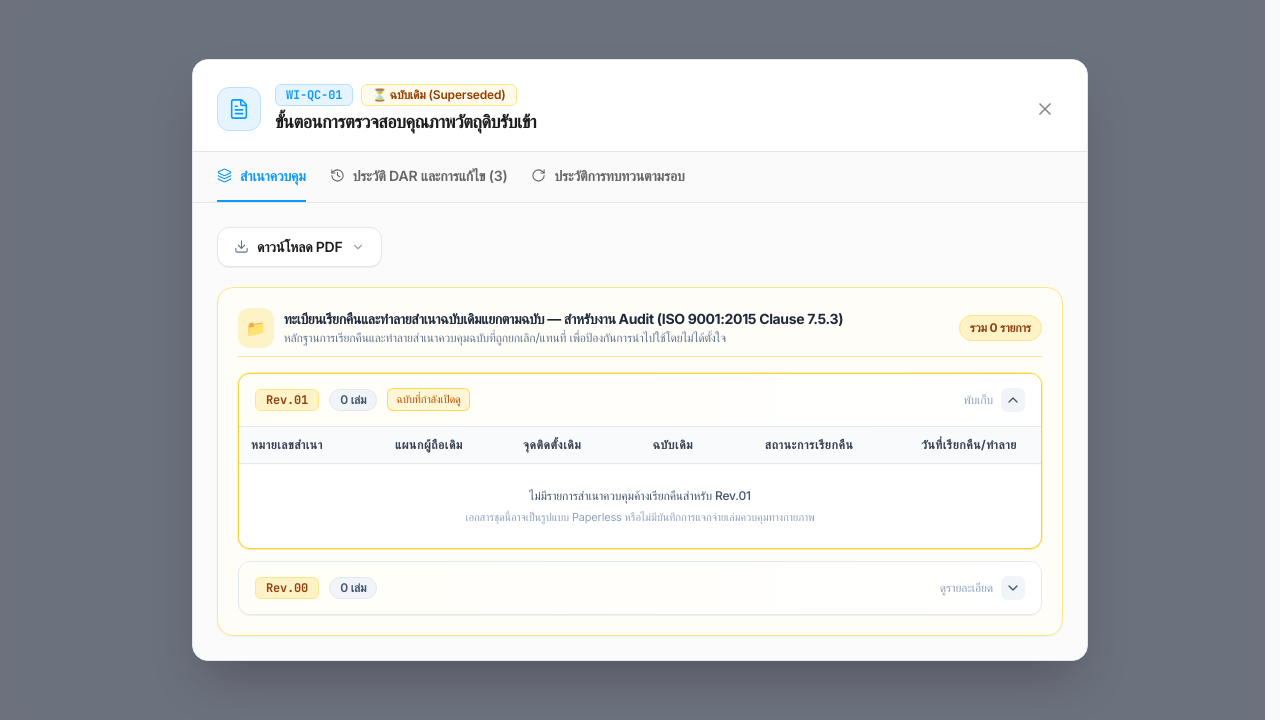
Test: Superseded Revision History Overwrite Fix & Persistence Test Suite › 11. DocumentDetailModal unified vertical accordion timeline renders all historical superseded DARs with clean header and expand/collapse controls
Expected: the text "⏳ ฉบับเดิม (Superseded)" is shown, [361, 84, 517, 106]
Click the button "ประวัติ DAR และการแก้ไข (3)".
click(419, 176)  # box [330, 152, 508, 202]
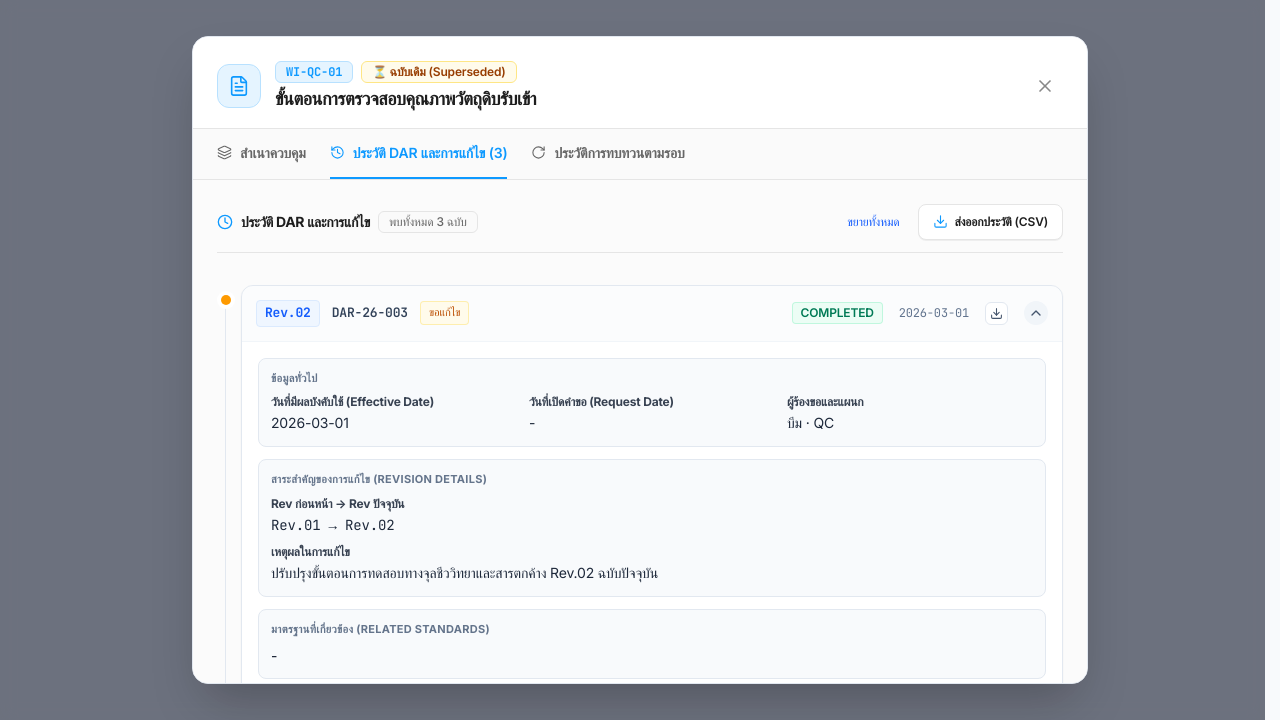
Now the text "พบทั้งหมด 3 ฉบับ" is shown, box [378, 211, 478, 233]
Now the text "DAR-26-003" is shown, box [332, 303, 408, 324]
Now the button "ขยายทั้งหมด" is shown
Note: Click "ขยายทั้งหมด" to expand all
Click the button "ขยายทั้งหมด".
click(873, 222)  # box [836, 207, 910, 237]
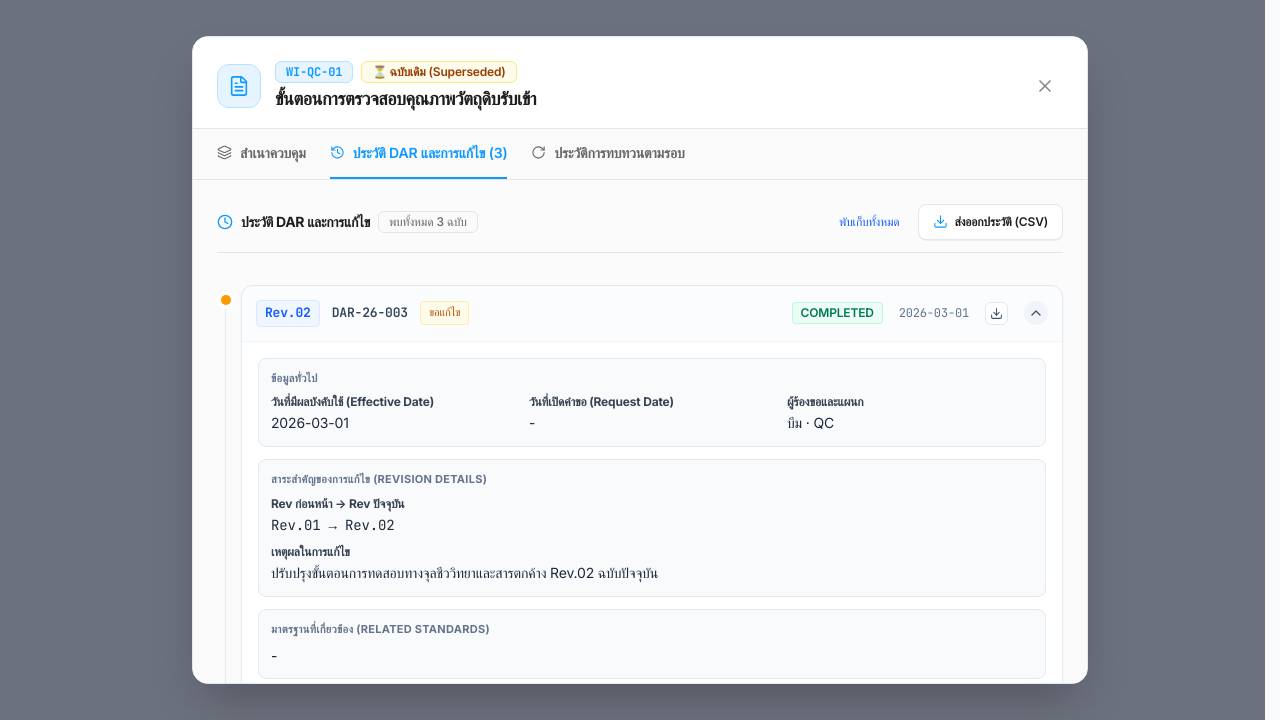
Now the button "พับเก็บทั้งหมด" is shown
Note: Click "พับเก็บทั้งหมด" to collapse all
Click the button "พับเก็บทั้งหมด".
click(869, 222)  # box [828, 207, 910, 237]
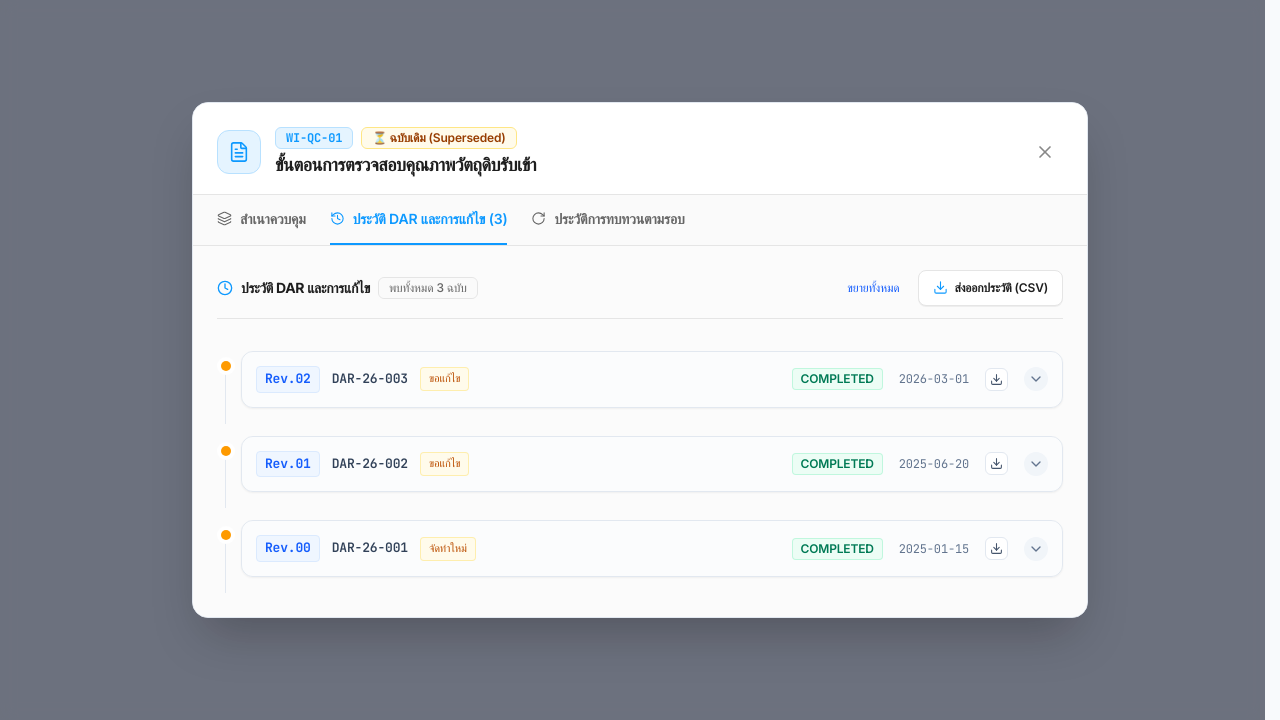
Now the button "ขยายทั้งหมด" is shown, box [836, 273, 910, 303]
